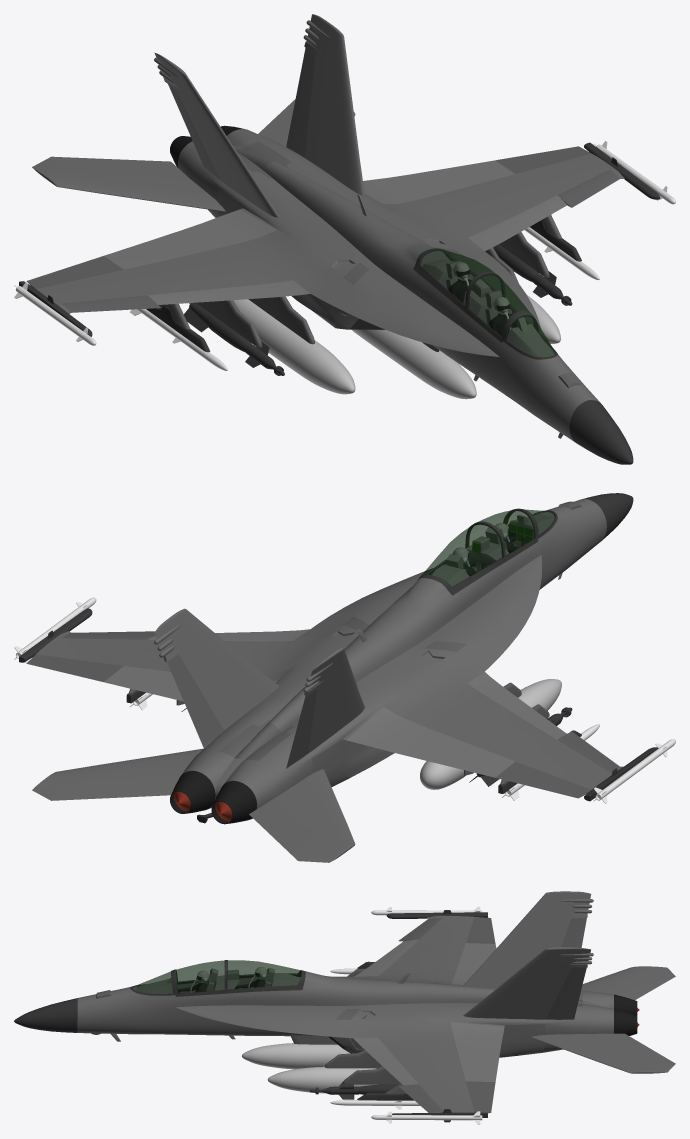
3 views of the same model, one above another, from view 1: azimuth 30°, elevation 25°; view 2: azimuth 150°, elevation 25°; view 3: azimuth 270°, elevation 25° (orthographic). The views are drawn at different scales.
Parts seen in each view (by area): view 1: Fuselage, TailL, ElevatorR, TailR, CanopyGlass, FlapsR, TankWingR, TankCenter, FlapsL, Nose, WingFoldR, WingFoldL (+23 smaller); view 2: Fuselage, TailL, ElevatorR, ElevatorL, FlapsR, CanopyGlass, TailR, EngineNozzles, WingFoldR, WingFoldL, IntakeR, RudderL (+17 smaller); view 3: Fuselage, TailR, TailL, ElevatorL, CanopyGlass, FlapsL, TankCenter, ElevatorR, TankWingL, IntakeL, Nose, WingFoldL (+23 smaller).
Boxes of the visible parts, box(x1,y1,x2,y2) form: Fuselage: box(124, 129, 600, 441); TailL: box(286, 14, 364, 196); ElevatorR: box(32, 156, 225, 211); TailR: box(154, 52, 279, 217); CanopyGlass: box(420, 249, 533, 336); FlapsR: box(104, 209, 276, 269); TankWingR: box(233, 299, 355, 394); TankCenter: box(351, 329, 476, 399); FlapsL: box(363, 160, 515, 204); Nose: box(569, 400, 633, 464); WingFoldR: box(36, 269, 157, 313); WingFoldL: box(516, 153, 624, 198); Fuselage: box(124, 499, 606, 819); TailL: box(154, 608, 278, 748); ElevatorR: box(249, 769, 355, 862); ElevatorL: box(32, 748, 203, 800); FlapsR: box(346, 707, 515, 777); CanopyGlass: box(422, 510, 534, 586); TailR: box(286, 647, 364, 768); EngineNozzles: box(170, 770, 256, 824); WingFoldR: box(516, 735, 623, 789); WingFoldL: box(36, 631, 154, 665); IntakeR: box(312, 739, 394, 786); RudderL: box(167, 654, 223, 746); Fuselage: box(77, 942, 613, 1081); TailR: box(463, 891, 593, 986); TailL: box(463, 947, 593, 1019); ElevatorL: box(531, 1033, 675, 1073); CanopyGlass: box(176, 960, 301, 993); FlapsL: box(450, 1022, 504, 1082); TankCenter: box(242, 1043, 350, 1069); ElevatorR: box(581, 966, 675, 1000); TankWingL: box(267, 1066, 377, 1093); IntakeL: box(331, 1024, 545, 1057); Nose: box(14, 998, 77, 1032); WingFoldL: box(416, 1080, 474, 1112).
Size of the model in its own units: 13.65 by 4.56 by 18.28.
